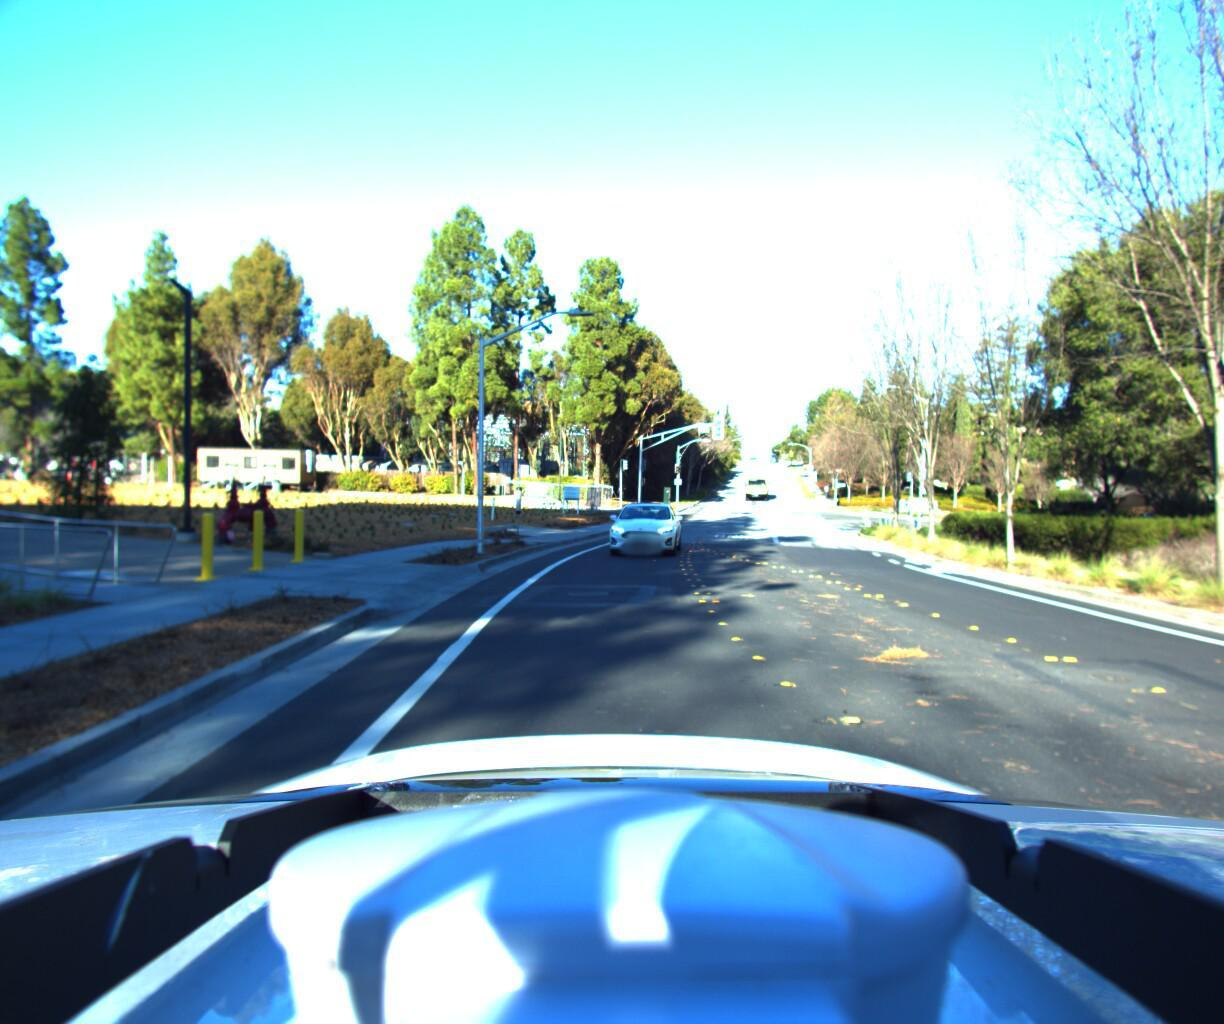car: (606, 487, 690, 557)
